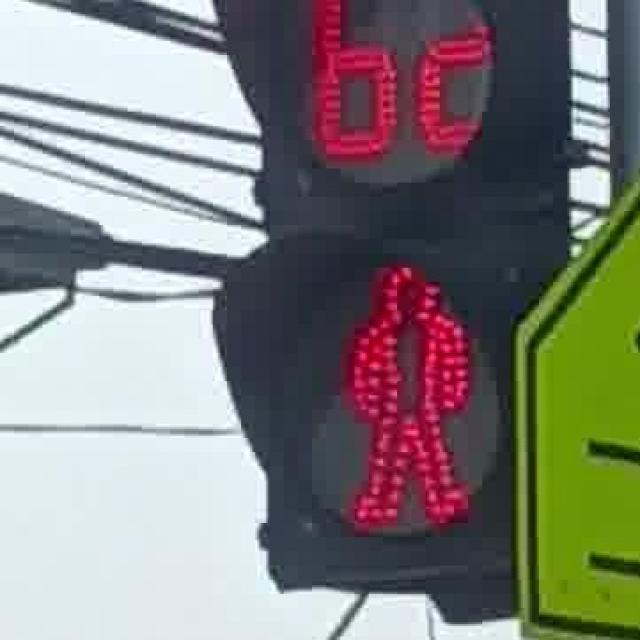red-crossing: (326, 246, 489, 554)
